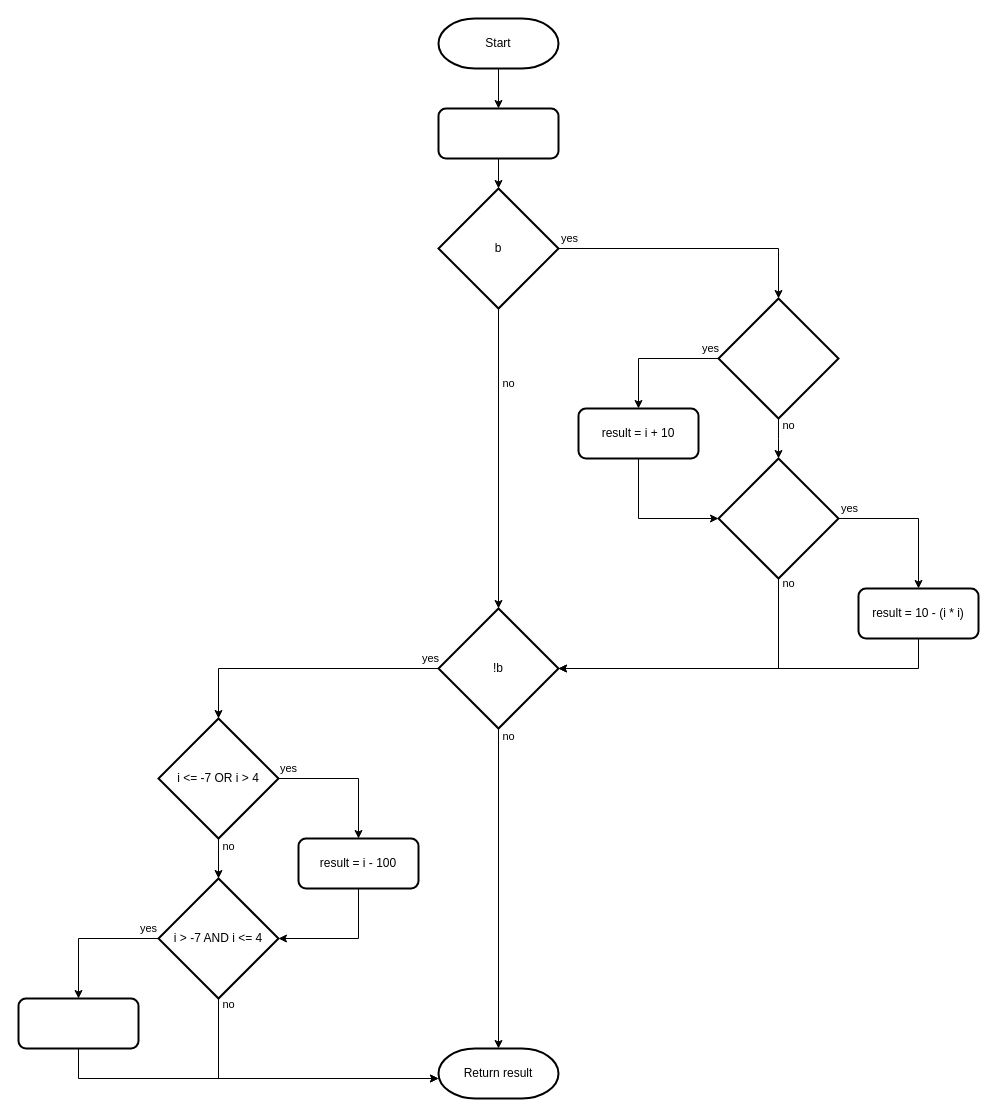
Image size: 996x1116. Some labels were removed from this diagram. Each missing label, with the box of its shape:
i < -5 OR i >= 5: (717, 297, 839, 419)
i >= -5 AND i < 5: (717, 457, 839, 579)
result = 0: (437, 107, 559, 159)
result = 10 - i: (17, 997, 139, 1049)
